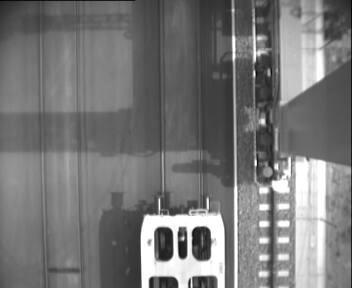twist_lock_2: (151, 224, 214, 263)
